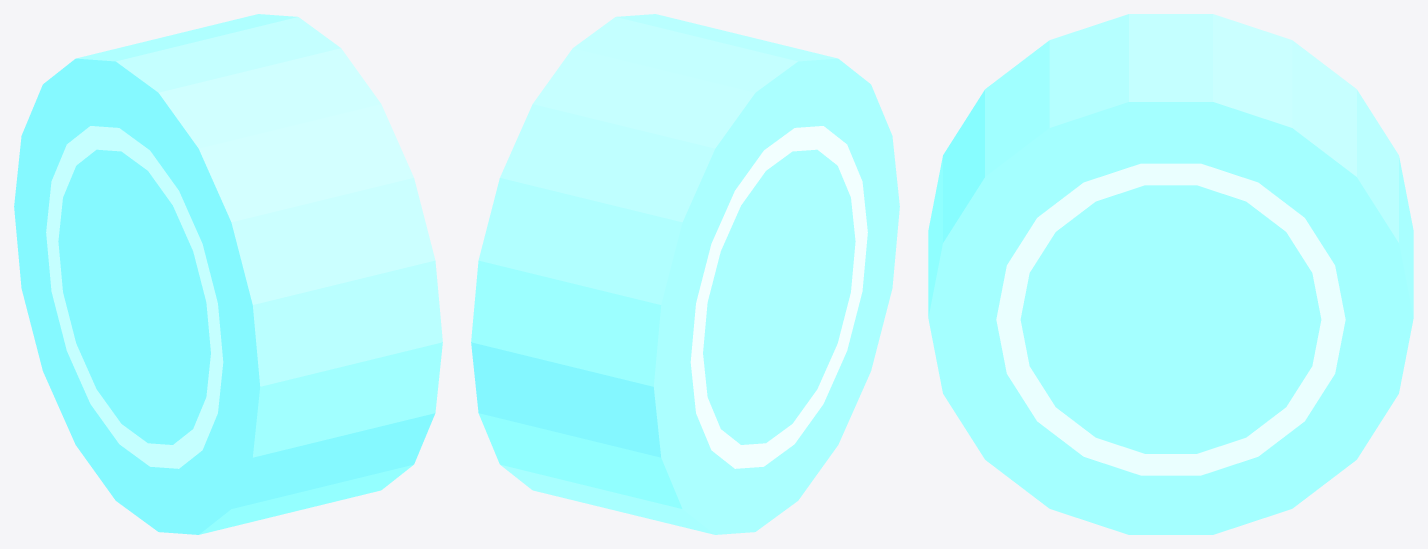
The model's file is ghost-wheel.glb.
3 renders of one model, left to right at view 1: azimuth 30°, elevation 25°; view 2: azimuth 150°, elevation 25°; view 3: azimuth 270°, elevation 25°, orthographic.
Visible parts, largest first — view 1: wheel; view 2: wheel; view 3: wheel.
Boxes of the visible parts, x1,y1,x2,y2 form: wheel: (14, 14, 442, 534); wheel: (471, 14, 899, 534); wheel: (928, 14, 1413, 534).
Bounding box in the file's own units: 0.308 × 0.6894 × 0.7.
